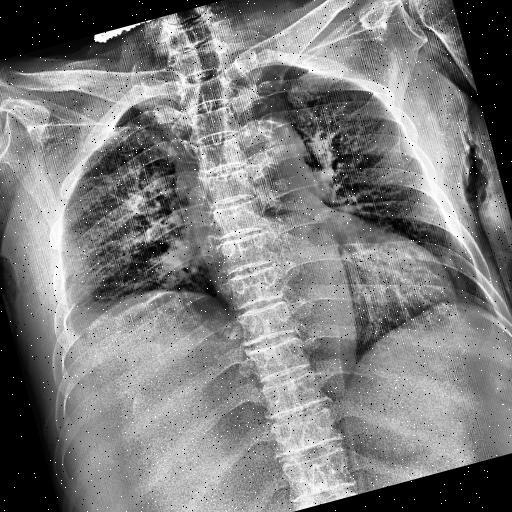0- Aortic enlargement: (221, 112, 318, 212), (218, 108, 316, 204), (224, 110, 314, 198)
10- Pleural effusion: (46, 284, 106, 348)
11- Pleural thickening: (46, 284, 106, 348)
3- Cardiomegaly: (204, 203, 461, 382), (210, 222, 460, 366)
9- Other lesion: (56, 273, 244, 428), (437, 122, 512, 397)
